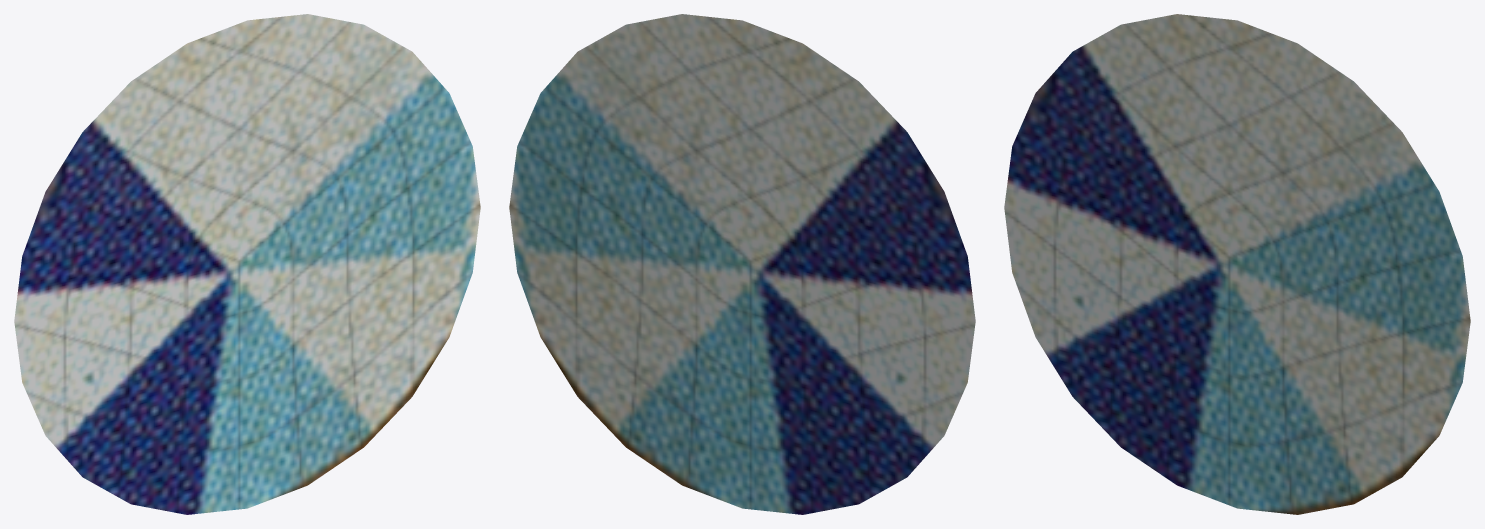
The model's file is sc3_dot1.fbx.
3 views of the same model, side by side, from view 1: azimuth 30°, elevation 25°; view 2: azimuth 150°, elevation 25°; view 3: azimuth 330°, elevation 25° (orthographic).
Visible parts, largest first — view 1: pDisc1; view 2: pDisc1; view 3: pDisc1.
Boxes of the visible parts, x1,y1,x2,y2 form: pDisc1: (14,14,480,514); pDisc1: (509,14,975,514); pDisc1: (1004,14,1470,514).
Size of the model in its own units: 0.9625 by 0.9625 by 5.89e-17.
Materials: 1 (1 with a texture image).
